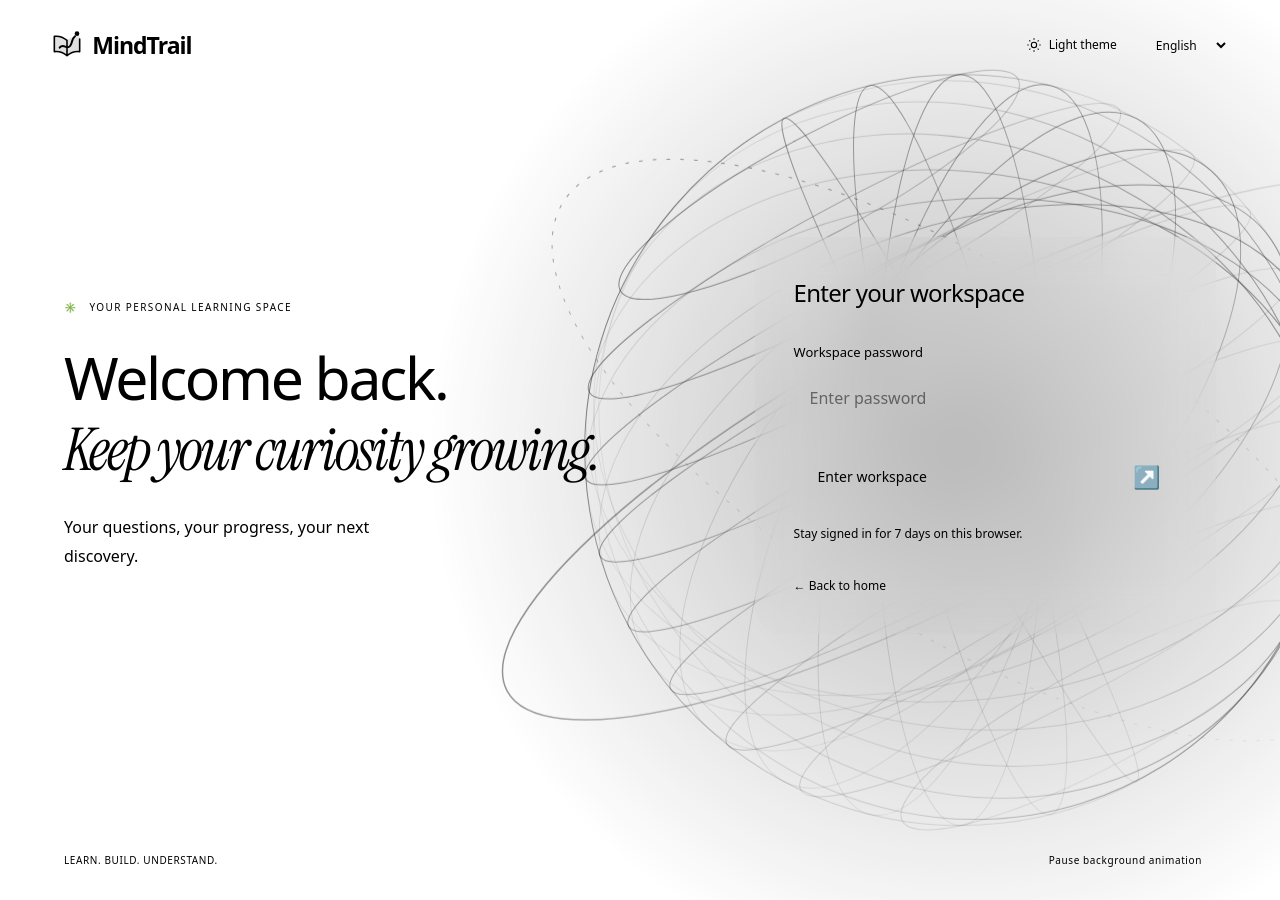
Test: handles network errors and permits retry
In the password field labelled "Workspace password": [986, 398] box x1=794 y1=372 x2=1178 y2=424, type "test-password"
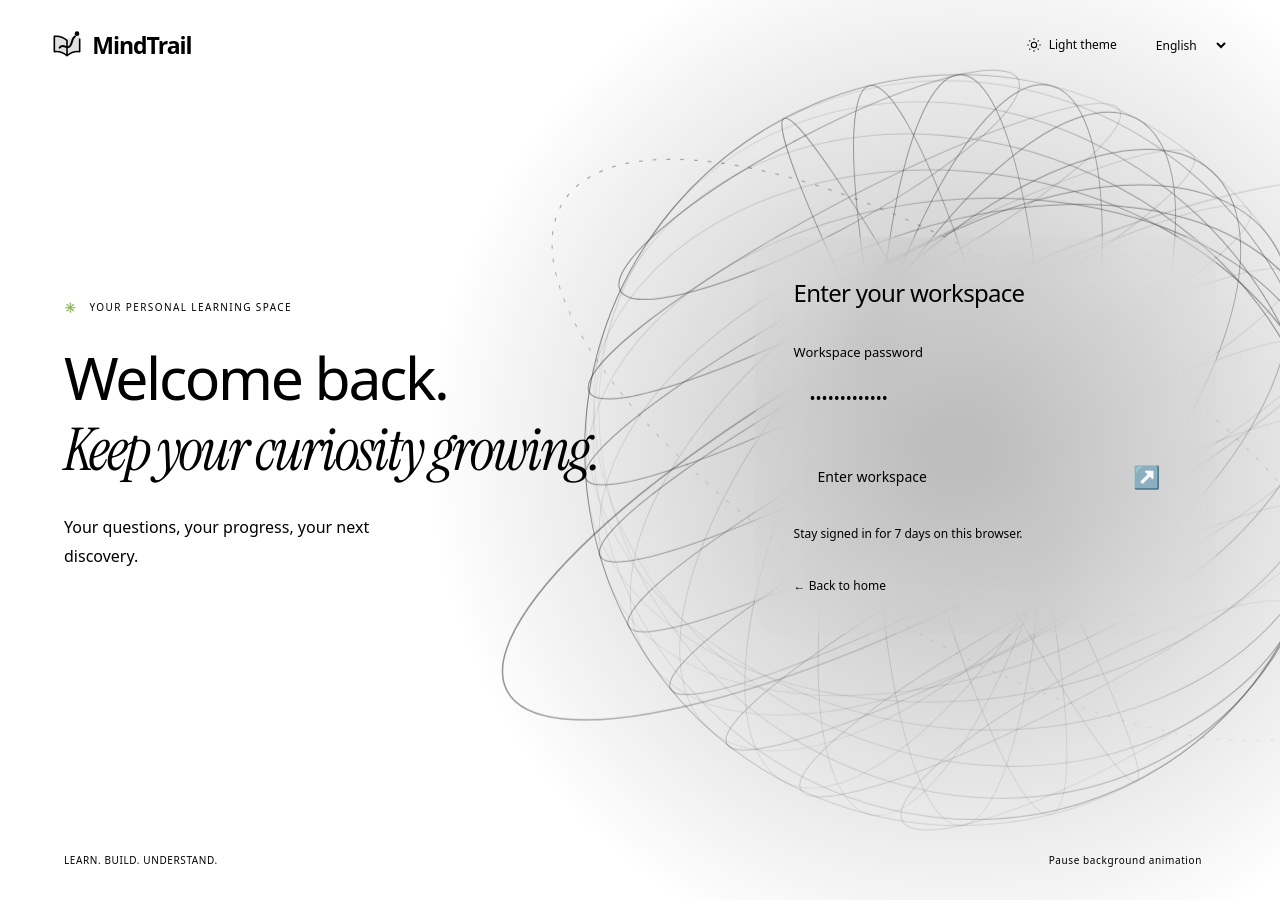
Click the button "Enter workspace ↗": [872, 477] box x1=794 y1=446 x2=1178 y2=508
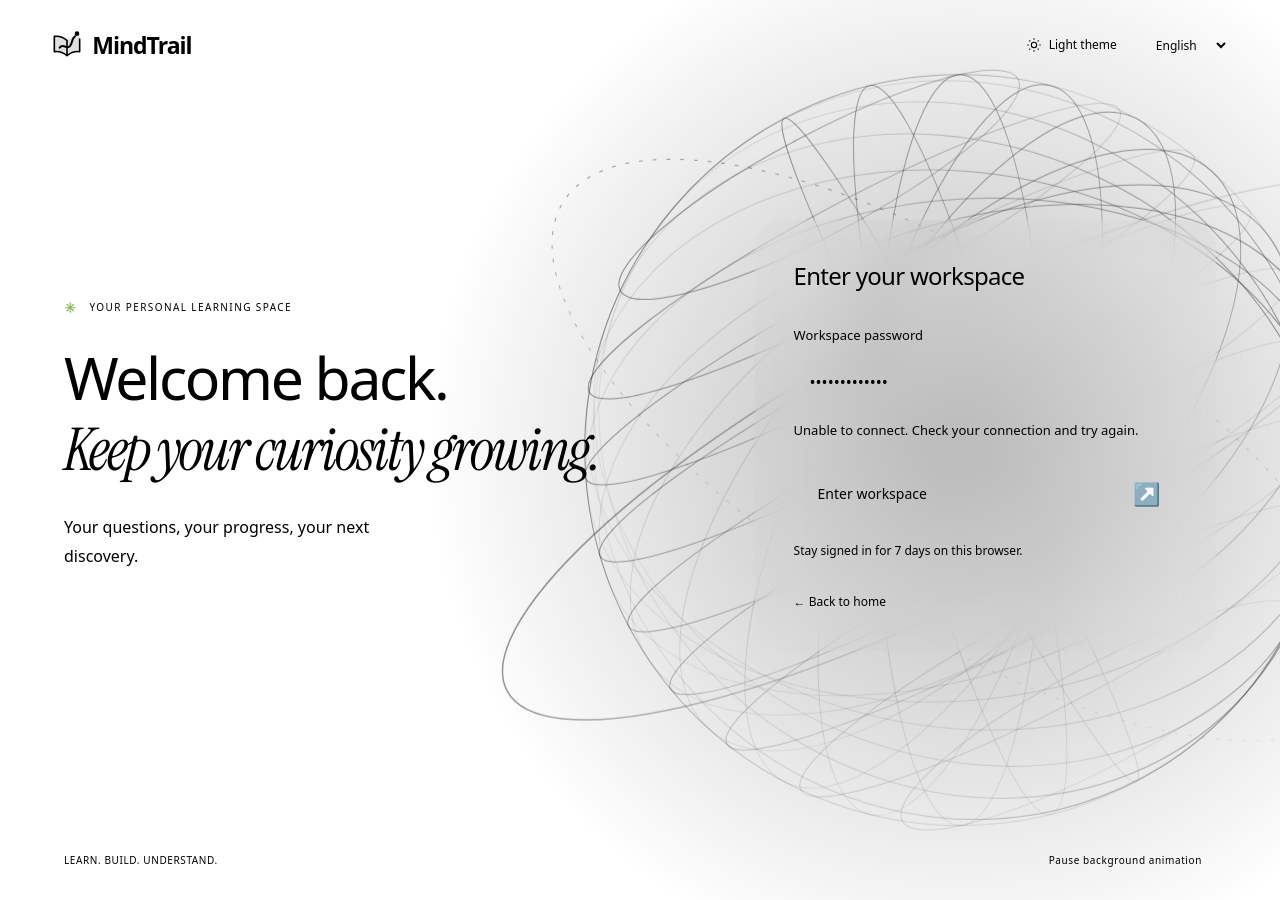
Check: the button "Enter workspace ↗" is enabled, box x1=794 y1=463 x2=1178 y2=524
Check: the message shows "Unable to connect", box x1=794 y1=421 x2=1138 y2=439
